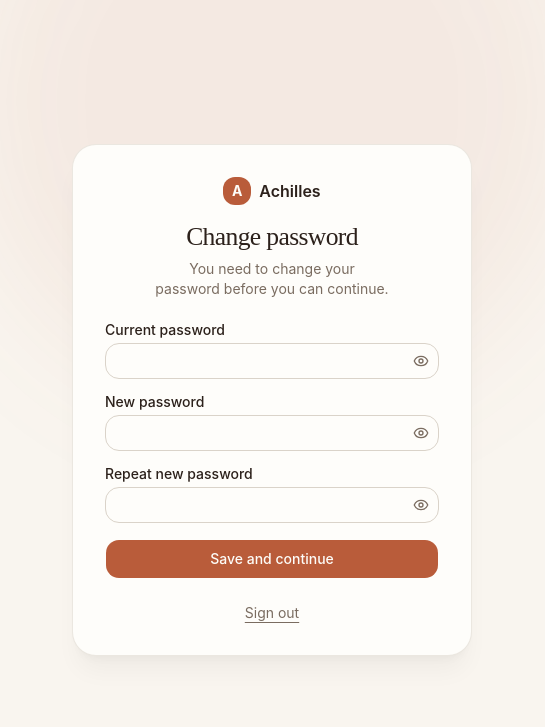
Test case: ChangePasswordPage › names a wrong current password
The width and height of the screenshot is (545, 727).
In the password field labelled "Current password": [272, 361] box x1=105 y1=343 x2=439 y2=379, type "not-the-current"
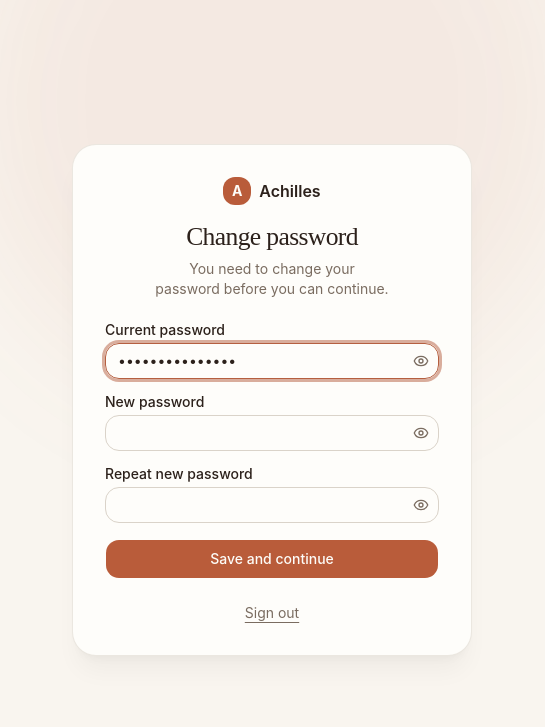
In the password field labelled "New password": [272, 433] box x1=105 y1=415 x2=439 y2=451, type "a-fresh-passphrase-2026"
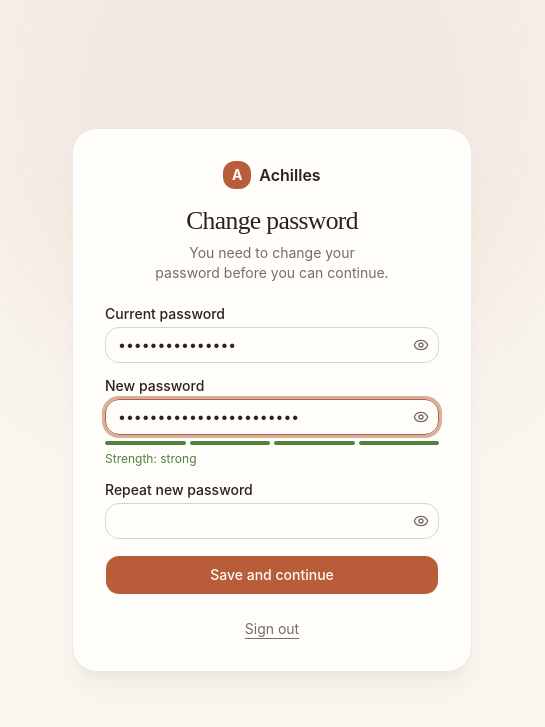
In the password field labelled "Repeat new password": [272, 521] box x1=105 y1=503 x2=439 y2=539, type "a-fresh-passphrase-2026"
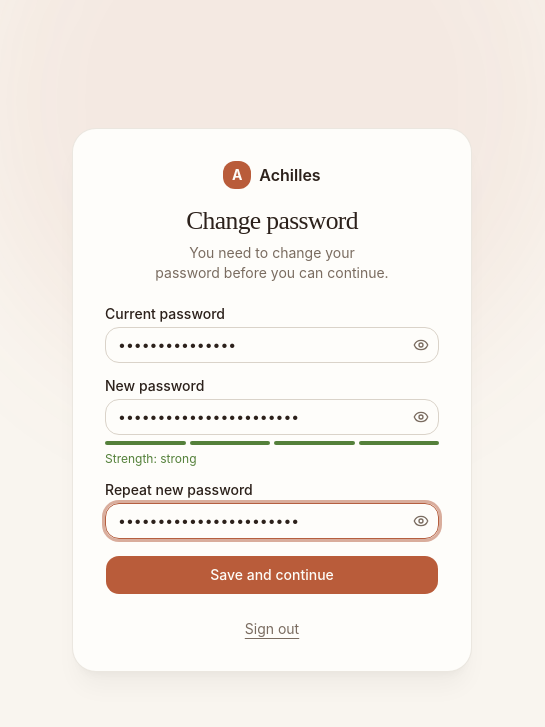
Click the button "Save and continue": [272, 575] box x1=105 y1=555 x2=439 y2=595
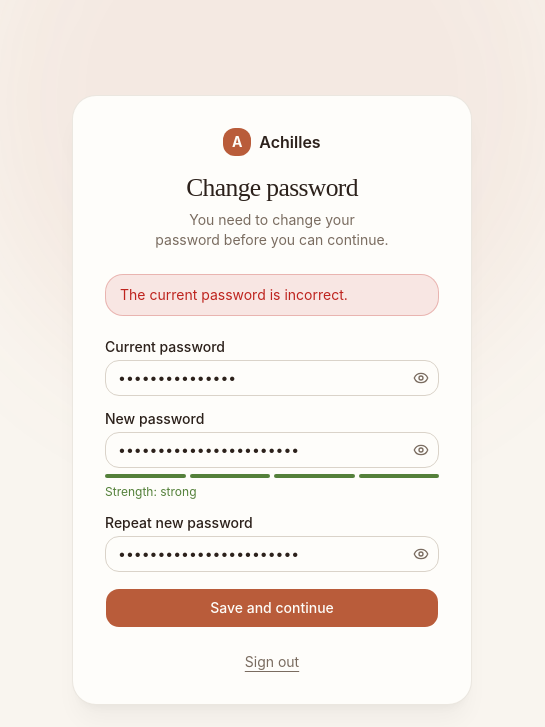
Check: the text "The current password is incorrect." is shown, box x1=105 y1=274 x2=439 y2=316
